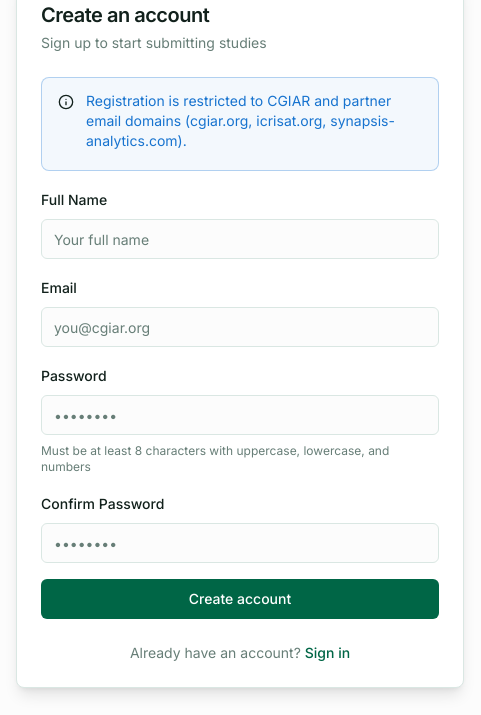
Test: SignUp › shows error on empty submit
The width and height of the screenshot is (481, 715).
(page scrolled)
Click the button "Create account": point(240, 599) [41,579,439,619]
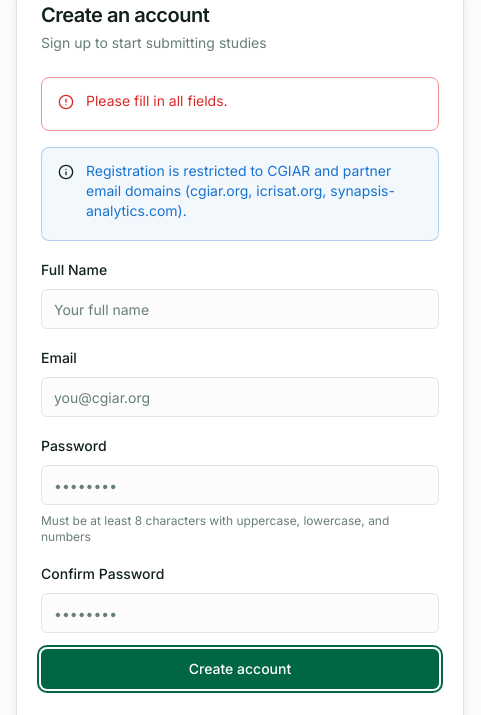
Now the text "Please fill in all fields." is shown, box [86,92,228,109]
